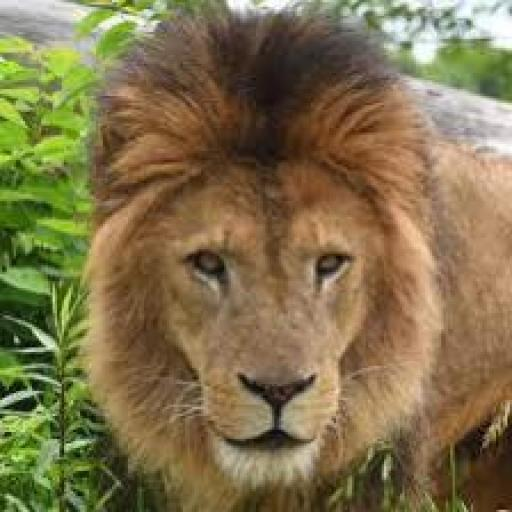lion: (50, 5, 490, 504)
